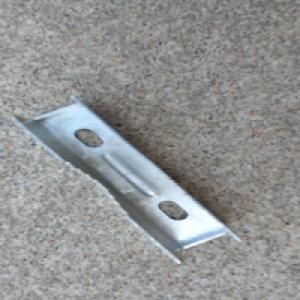ClampPart: (9, 96, 246, 268)
